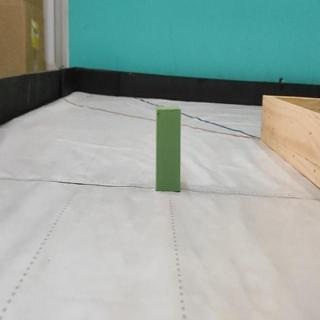greenbox: (154, 109, 181, 192)
